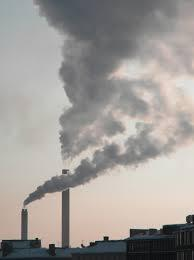smoke: (11, 1, 194, 208)
